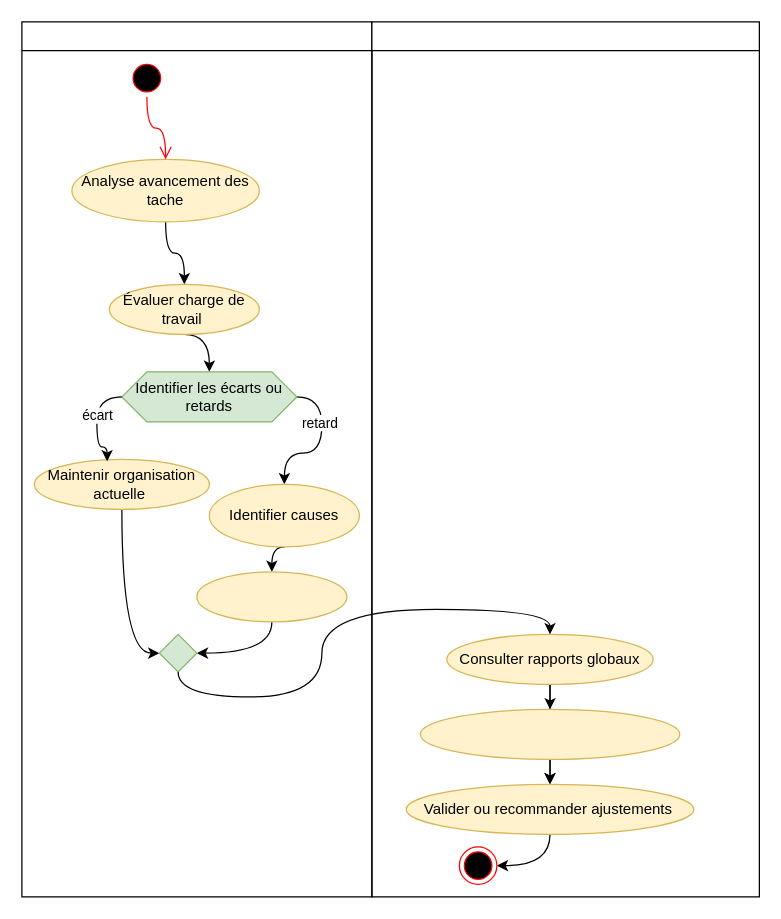
Some shapes in this 781 by 919 pixel diagram are drawn without their labels. Each missing label, with the box of its shape:
Admin: (371, 21, 759, 897)
Chef de projet: (21, 21, 372, 897)
Proposer Actions correctives: (196, 571, 347, 622)
Verifier cohérence des performances: (419, 708, 680, 759)
